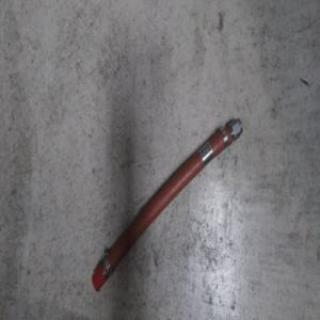Hosetrack_idkeyframe: (89, 114, 243, 294)
